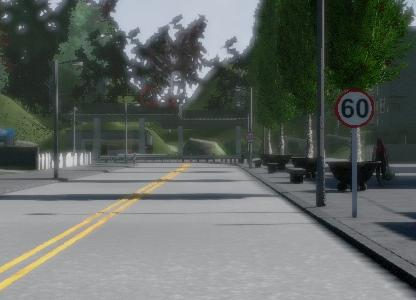Speed_60: (333, 84, 376, 130)
